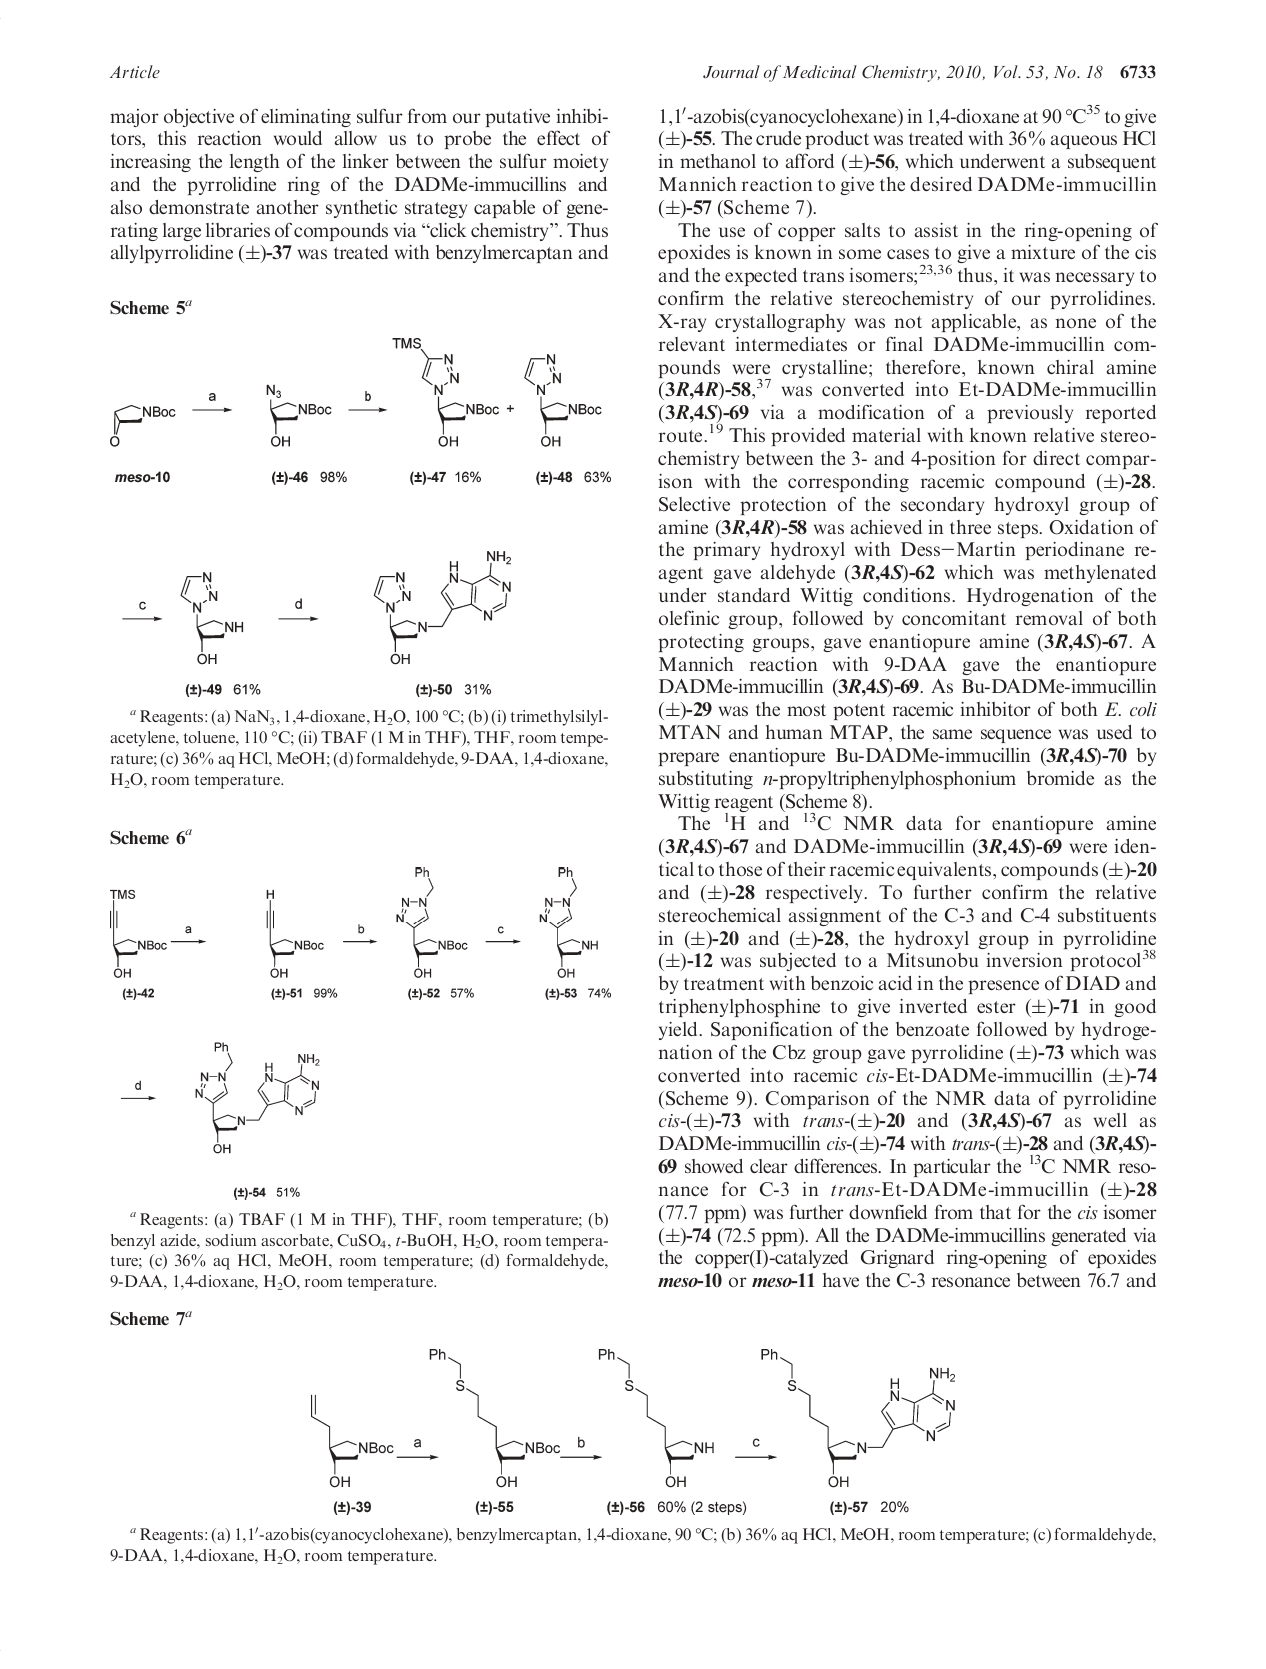exist_molecular: (758, 1345, 956, 1489), (427, 1346, 563, 1489), (372, 547, 515, 668), (596, 1345, 715, 1488), (193, 1039, 320, 1154), (392, 335, 501, 449), (394, 864, 469, 979), (307, 1391, 394, 1487), (523, 352, 604, 449), (537, 864, 600, 979), (180, 571, 246, 666), (106, 886, 169, 977), (262, 887, 324, 979), (265, 382, 334, 447), (106, 402, 178, 448)
